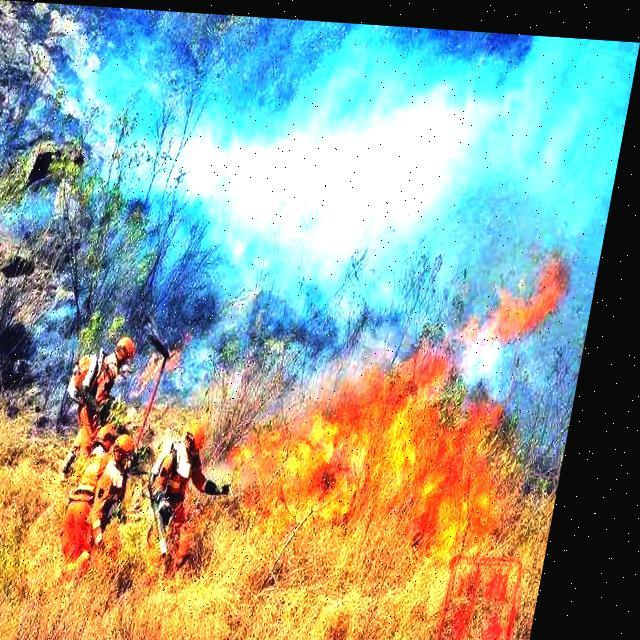Fire: (246, 234, 579, 551)
